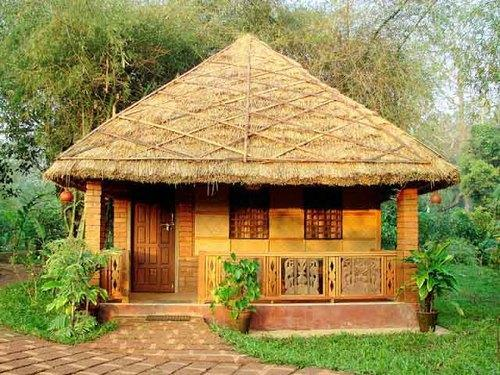Mud House: (53, 53, 471, 346)
